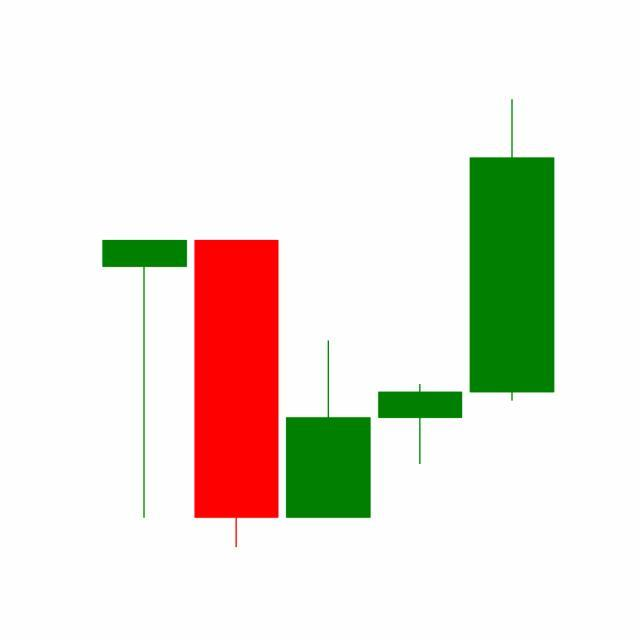Dragonfly Doji: (374, 383, 468, 467)
